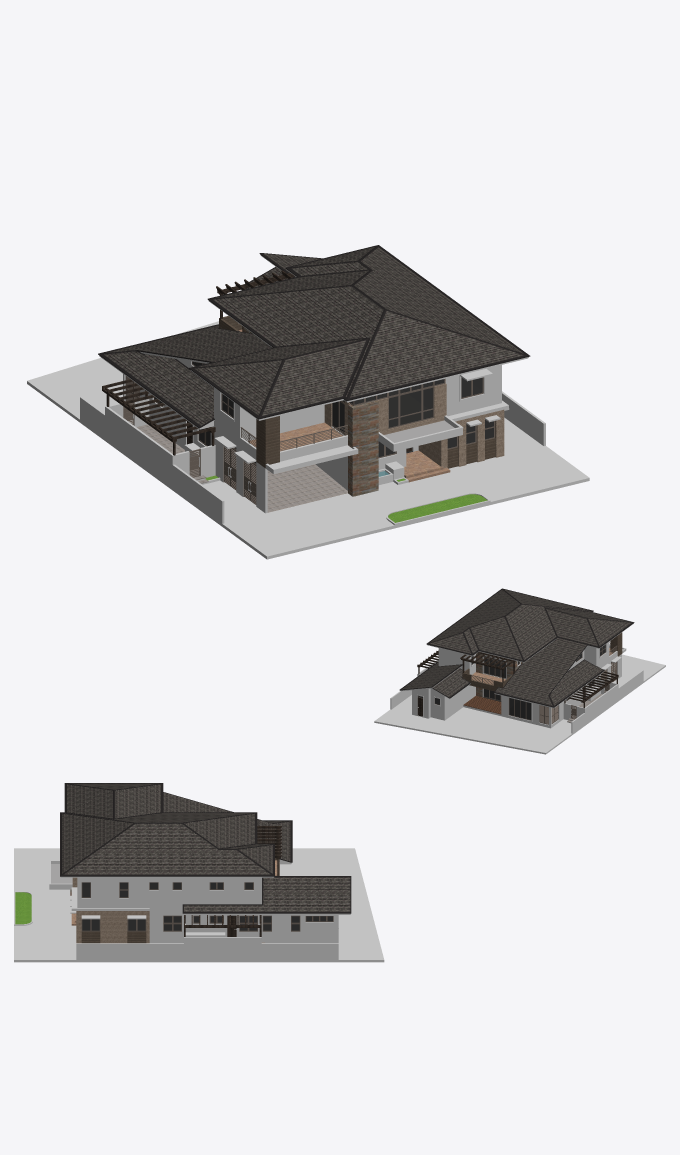
The model's file is tropical_modernity_in_philippines.glb.
3 renders of one model, top to bottom at view 1: azimuth 30°, elevation 25°; view 2: azimuth 150°, elevation 25°; view 3: azimuth 270°, elevation 25°, orthographic. The views are drawn at different scales.
Visible parts, largest first — view 1: Group105, Group1, Group2, Group172, Group107, Group238, Group130; view 2: Group105, Group1, Group107, Group172, Group2, Group238, Group109, Group130, Group161; view 3: Group105, Group1, Group172, Group2, Group238, Group109, Group107, Group161.
Part boxes in pixels (<box>): Group105: <box>189,245,530,420</box>; Group1: <box>27,321,589,559</box>; Group2: <box>214,316,508,474</box>; Group172: <box>123,374,509,513</box>; Group107: <box>98,324,273,429</box>; Group238: <box>80,391,545,523</box>; Group130: <box>102,379,215,455</box>; Group105: <box>426,588,634,662</box>; Group1: <box>374,654,665,754</box>; Group107: <box>493,637,604,708</box>; Group172: <box>412,654,621,728</box>; Group2: <box>438,632,626,691</box>; Group238: <box>390,658,643,733</box>; Group109: <box>399,661,470,698</box>; Group130: <box>564,671,618,708</box>; Group161: <box>460,652,514,669</box>; Group105: <box>60,783,274,877</box>; Group1: <box>14,848,384,962</box>; Group172: <box>70,864,338,943</box>; Group2: <box>49,848,279,910</box>; Group238: <box>76,923,338,959</box>; Group109: <box>182,876,351,914</box>; Group107: <box>162,791,292,864</box>; Group161: <box>257,826,281,857</box>.
Bounding box in the file's own units: 58.9 × 9.2 × 55.45.
25 materials, 13 textured.
